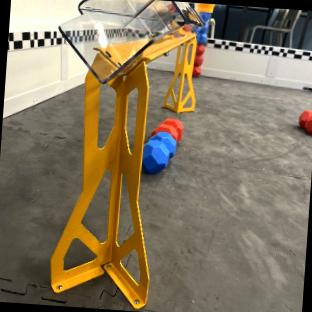Goal: (51, 0, 202, 306), (163, 22, 202, 111)
V5_BLUE: (142, 130, 174, 172)
V5_RED: (152, 118, 181, 140), (299, 109, 312, 133)
